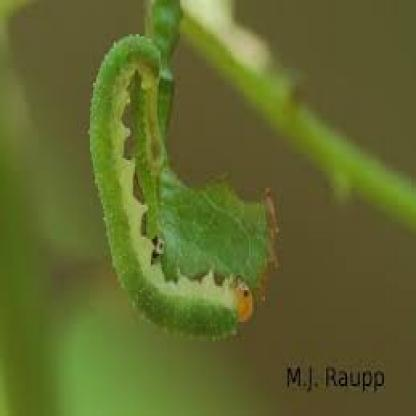sawfly: (84, 29, 258, 344)
